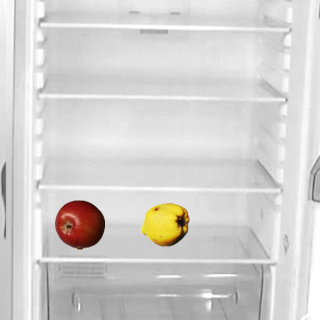Apple Braeburn: (54, 199, 104, 249)
Quince: (139, 199, 189, 249)
